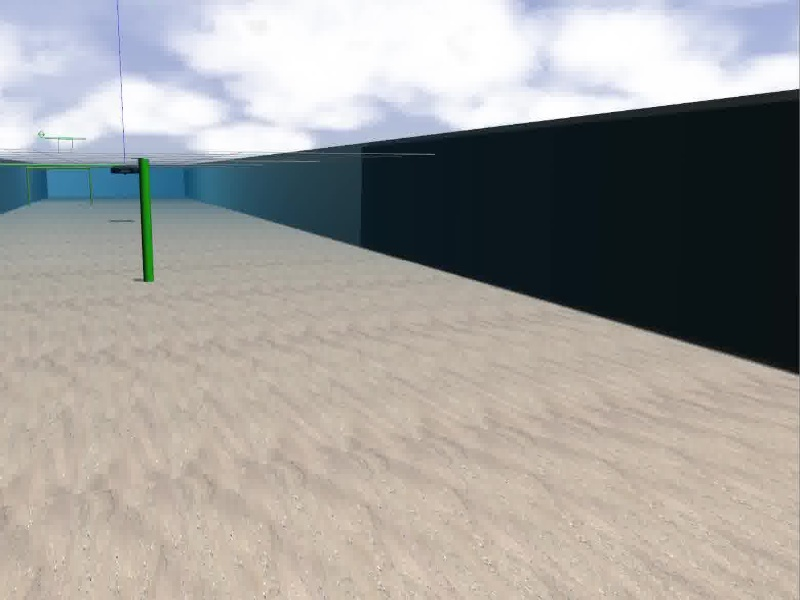gate: (26, 163, 93, 206)
